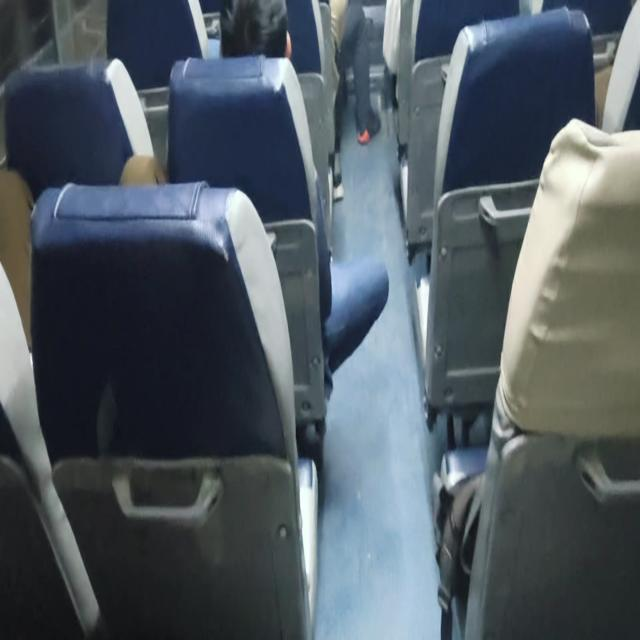person: (219, 1, 389, 395), (219, 0, 335, 226), (330, 0, 381, 148), (219, 0, 293, 60)
